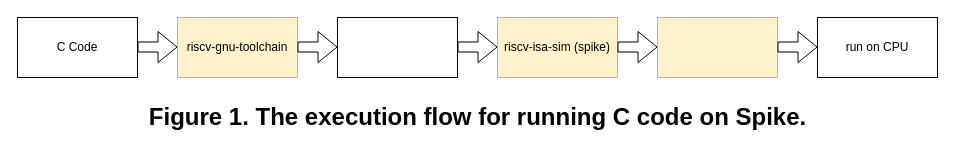
The diagram is 955 pixels wide and 155 high, and some of its shapes have lost their labels. Here are the shapes that lost their labels. From the top down, the box of each, then its label:
(336, 16, 458, 78): riscv object code
(656, 16, 778, 78): riscv-pk
